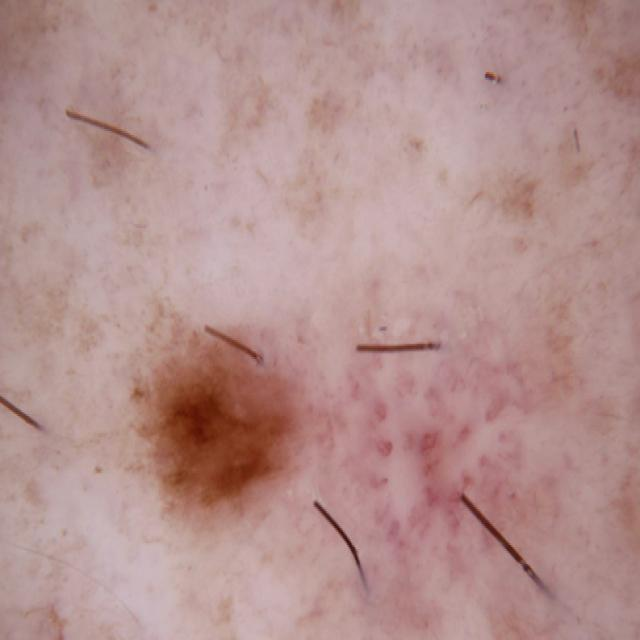Dermatofibroma: (92, 271, 350, 556)
